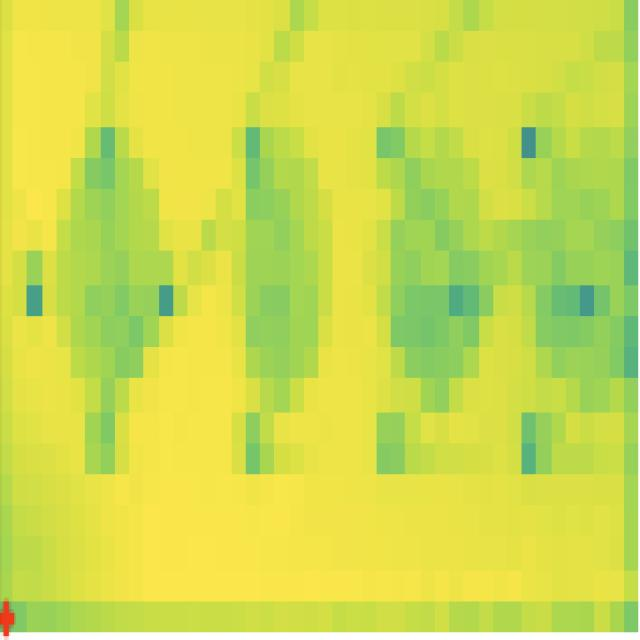Concrete: (363, 89, 490, 447)
Glass: (224, 90, 338, 488)
Metal: (512, 90, 632, 421)
Wood: (45, 106, 181, 470)
